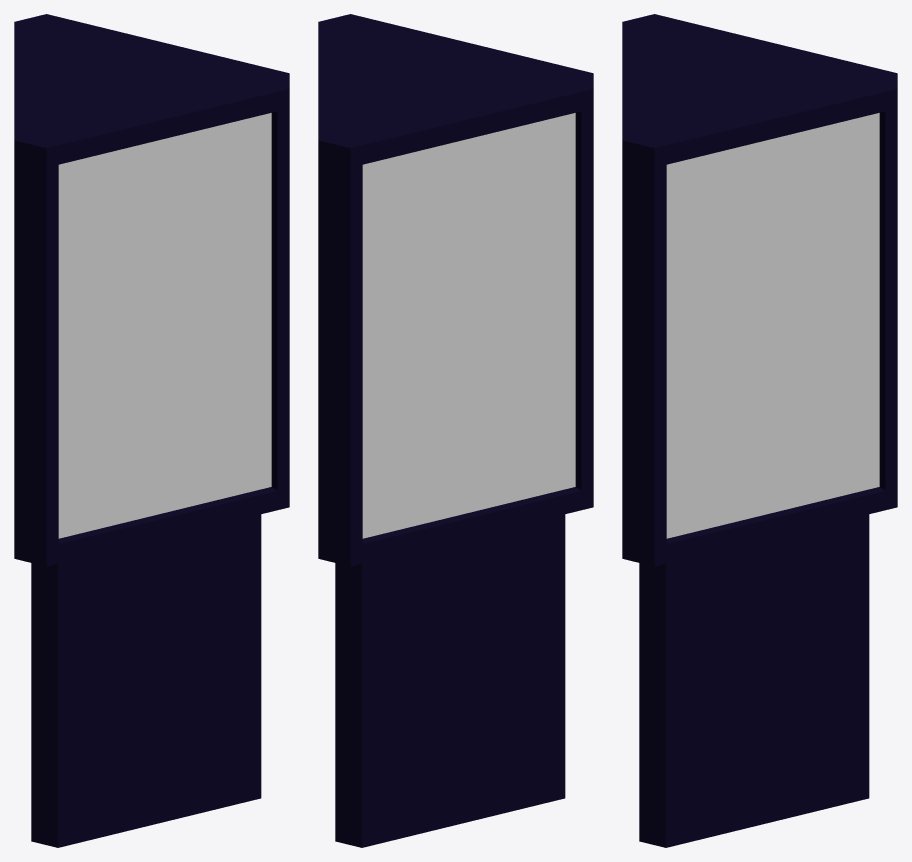
Rendered from kiosk.fbx.
3 renders of one model, left to right at view 1: azimuth 30°, elevation 25°; view 2: azimuth 150°, elevation 25°; view 3: azimuth 270°, elevation 25°, orthographic.
Visible parts, largest first — view 1: Cylinder; view 2: Cylinder; view 3: Cylinder.
Part boxes in pixels (x1,y1,x2,y2): Cylinder: (14, 14, 289, 847); Cylinder: (318, 14, 593, 847); Cylinder: (622, 14, 897, 847).
Size of the model in its own units: 85.45 by 211 by 74.
